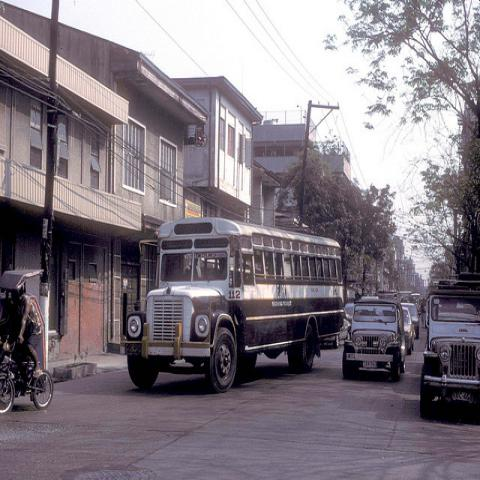bus: (128, 222, 342, 392)
car: (420, 291, 478, 418), (340, 297, 406, 381), (320, 308, 352, 348), (402, 307, 415, 355), (407, 303, 420, 338), (378, 288, 400, 299), (345, 303, 355, 317)
